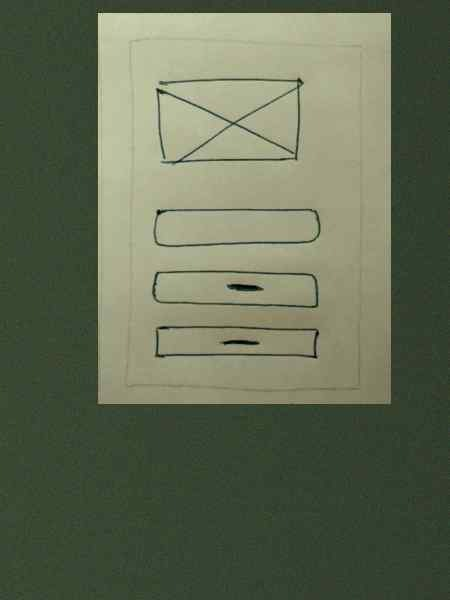button: (148, 265, 323, 316), (150, 323, 324, 367)
image: (154, 72, 309, 170)
text_input: (148, 202, 325, 258)
